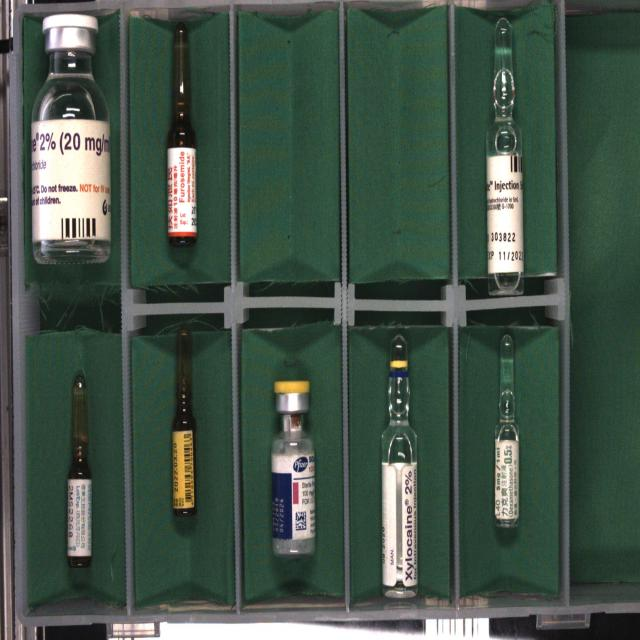Vials: (31, 14, 110, 262), (271, 380, 315, 556)
